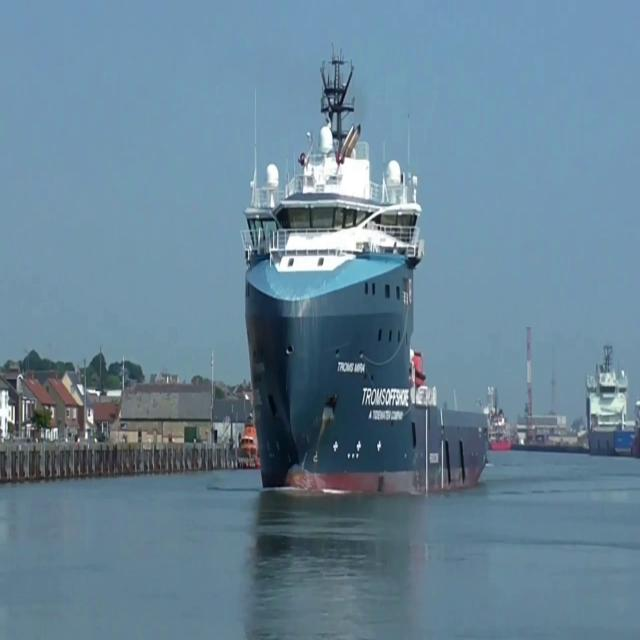OCR: (361, 379, 411, 413)
